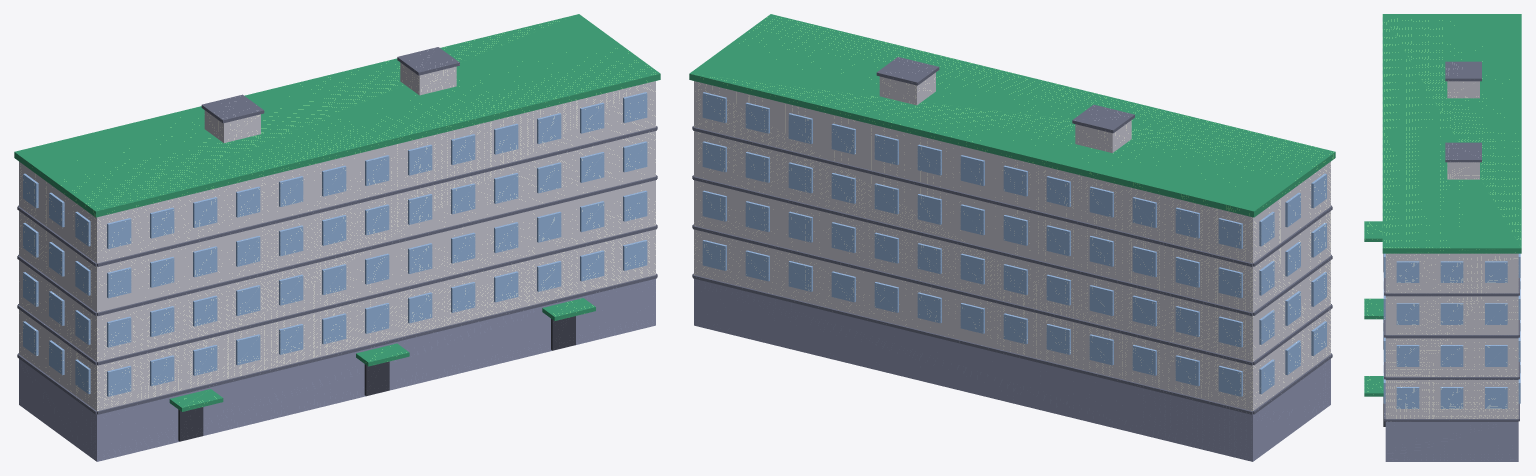
File: panel-3x1-l1.glb
3 views of the same model, side by side, from view 1: azimuth 30°, elevation 25°; view 2: azimuth 150°, elevation 25°; view 3: azimuth 270°, elevation 25° (orthographic). The views are drawn at different scales.
Parts seen in each view (by area): view 1: panel-3x1-l1; view 2: panel-3x1-l1; view 3: panel-3x1-l1.
Part boxes in pixels (bbox=[...]): panel-3x1-l1: bbox=[14, 14, 660, 461]; panel-3x1-l1: bbox=[689, 14, 1335, 461]; panel-3x1-l1: bbox=[1364, 14, 1521, 461].
Size of the model in its own units: 5.76 by 2.69 by 1.63.
1 material, 1 textured.
